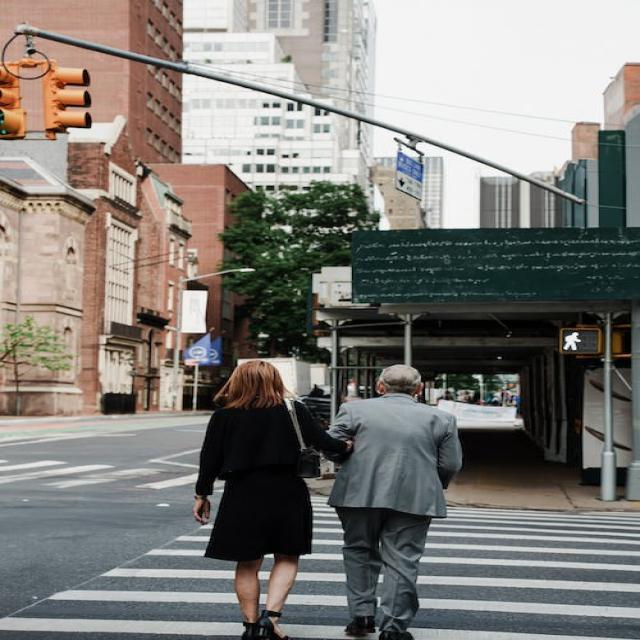person: (191, 358, 356, 640), (320, 361, 477, 640)
